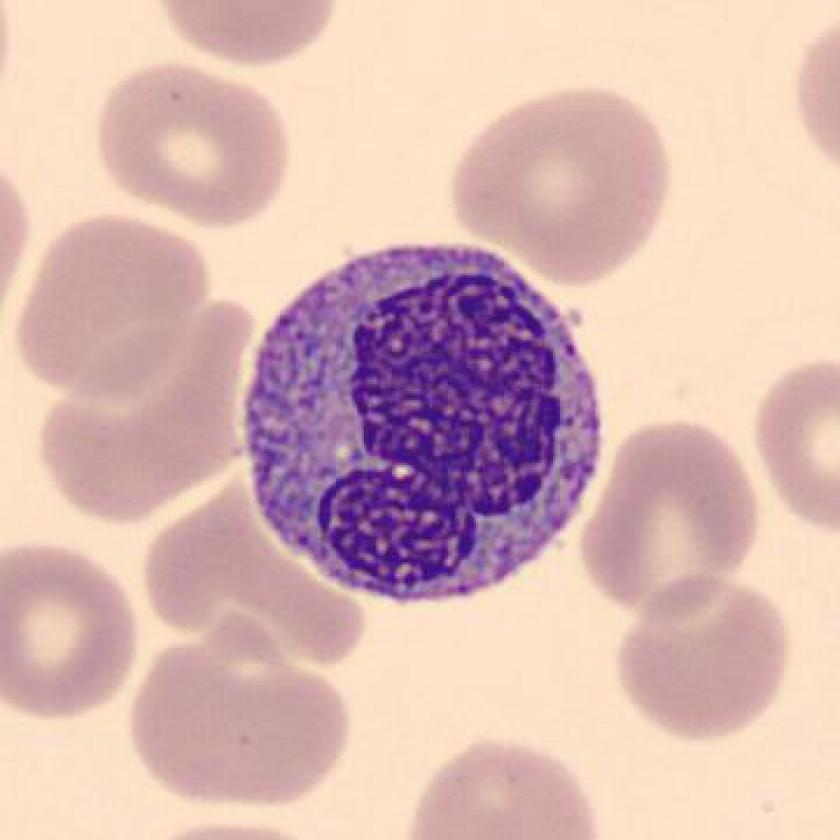monocyte: (230, 226, 617, 621)
